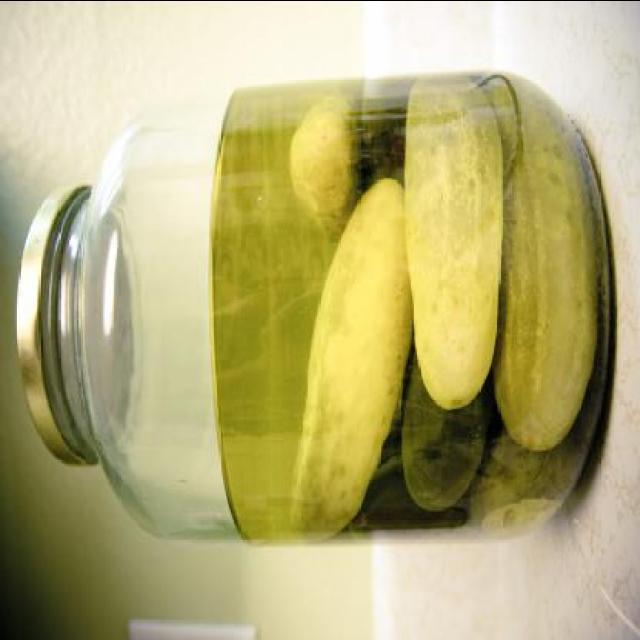Cucumber: (290, 71, 594, 548), (403, 72, 503, 412)
